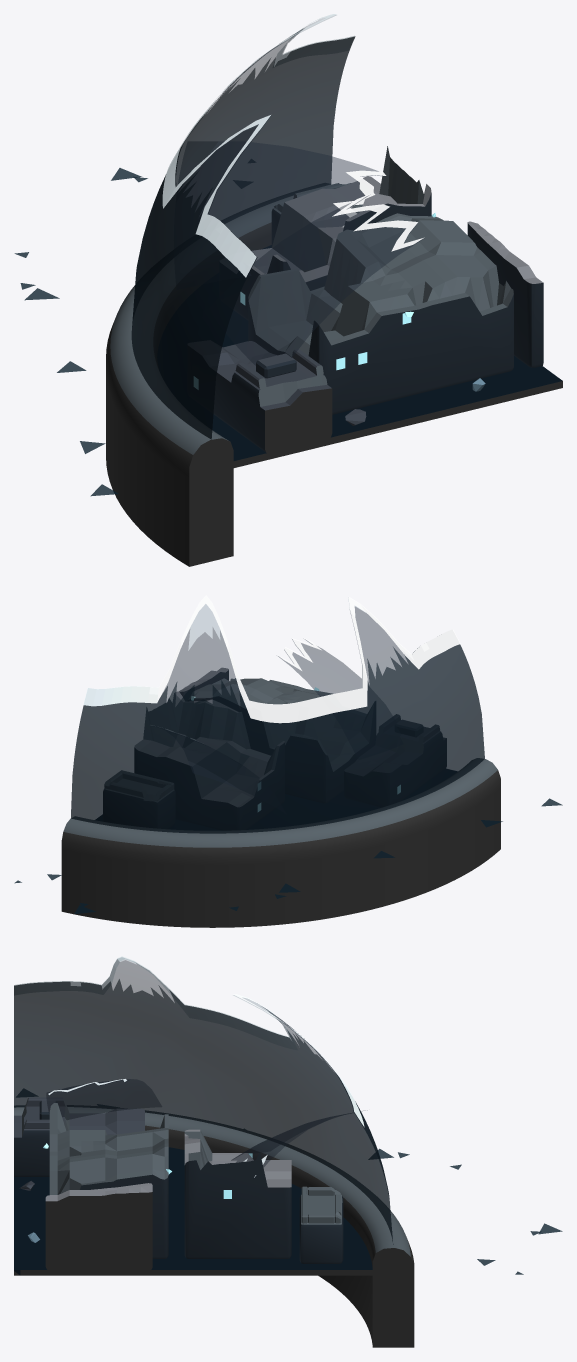
File: glass_city_tl_wreck.glb
3 views of the same model, one above another, from view 1: azimuth 30°, elevation 25°; view 2: azimuth 150°, elevation 25°; view 3: azimuth 270°, elevation 25° (orthographic). The views are drawn at different scales.
Parts seen in each view (by area): view 1: glassshell.001, b2.001, collar.001, glassshell_fallen0.001, glassshell_fallen3.001, floor.001, b8.001, b1.001, b3.001, glassshell_d_edge.001, glassshell_e_fallen3.001, b8_unit0.001; view 2: glassshell.001, collar.001, b1.001, b2.001, glassshell_d_edge.001, b8.001, floor.001, b15.001, glassshell_fallen3.001, b3.001; view 3: glassshell.001, collar.001, b1.001, floor.001, b3.001, b2.001, b8.001, glassshell_d_edge.001, glassshell_fallen3.001, b15.001, glassshell_fallen0.001.
Boxes of the visible parts, bbox=[...] form: glassshell.001: bbox=[131, 15, 355, 439]; b2.001: bbox=[248, 213, 513, 414]; collar.001: bbox=[106, 184, 330, 566]; glassshell_fallen0.001: bbox=[183, 141, 385, 275]; glassshell_fallen3.001: bbox=[226, 195, 423, 365]; floor.001: bbox=[157, 245, 562, 468]; b8.001: bbox=[187, 340, 332, 453]; b1.001: bbox=[219, 146, 431, 320]; b3.001: bbox=[467, 221, 543, 367]; glassshell_d_edge.001: bbox=[162, 14, 354, 277]; glassshell_e_fallen3.001: bbox=[332, 194, 424, 251]; b8_unit0.001: bbox=[256, 353, 296, 378]; glassshell.001: bbox=[71, 604, 484, 833]; collar.001: bbox=[61, 758, 500, 927]; b1.001: bbox=[134, 691, 284, 830]; b2.001: bbox=[188, 678, 357, 802]; glassshell_d_edge.001: bbox=[83, 595, 460, 723]; b8.001: bbox=[344, 727, 446, 806]; floor.001: bbox=[96, 769, 457, 830]; b15.001: bbox=[103, 779, 175, 828]; glassshell_fallen3.001: bbox=[278, 639, 361, 696]; b3.001: bbox=[178, 667, 228, 701]; glassshell.001: bbox=[14, 958, 393, 1244]; collar.001: bbox=[14, 1105, 414, 1347]; b1.001: bbox=[184, 1129, 291, 1258]; floor.001: bbox=[14, 1147, 373, 1275]; b3.001: bbox=[45, 1183, 152, 1270]; b2.001: bbox=[49, 1103, 168, 1258]; b8.001: bbox=[14, 1104, 144, 1176]; glassshell_d_edge.001: bbox=[14, 956, 364, 1127]; glassshell_fallen3.001: bbox=[46, 1079, 161, 1119]; b15.001: bbox=[299, 1194, 343, 1263]; glassshell_fallen0.001: bbox=[231, 1111, 361, 1177].
Bounding box in the file's own units: 22.26 × 17.61 × 27.68.
